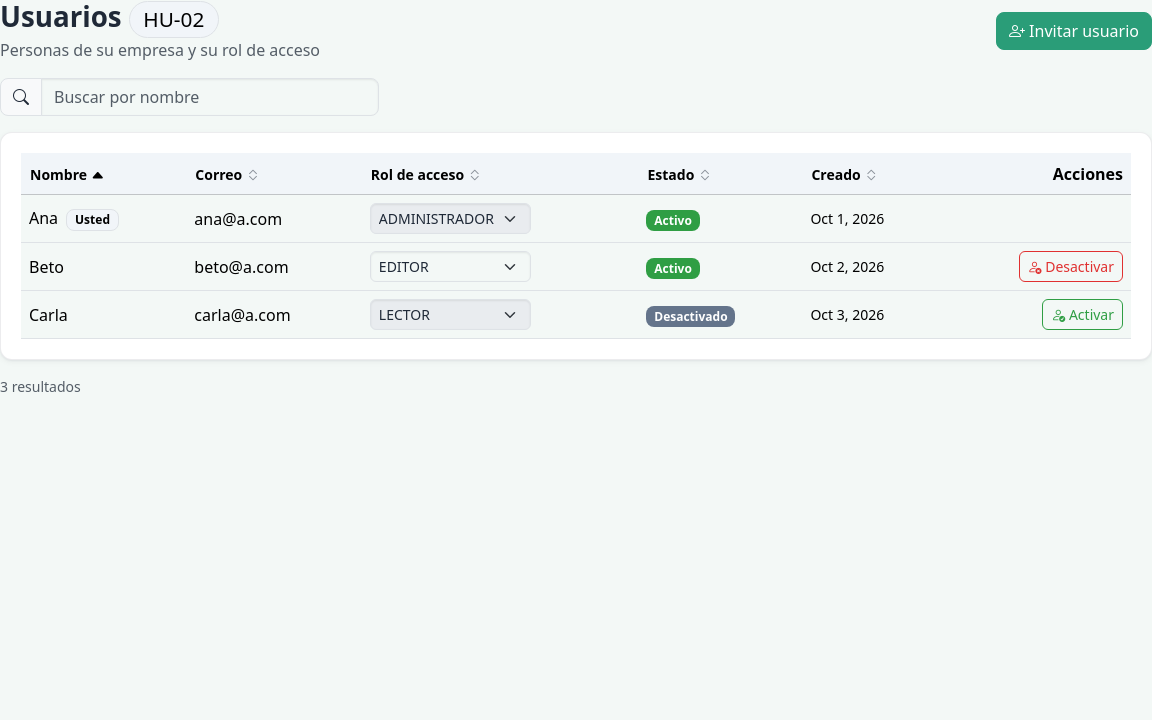
Scenario: UsuariosComponent (HU-02) › desactiva al confirmar y avisa que ya no puede entrar
What coordinates should you click on to do the following:
click the button with id "desactivarUsuarioBtn-2"
I would click on:
 (1071, 267)
Its box is [1018,251,1123,282].
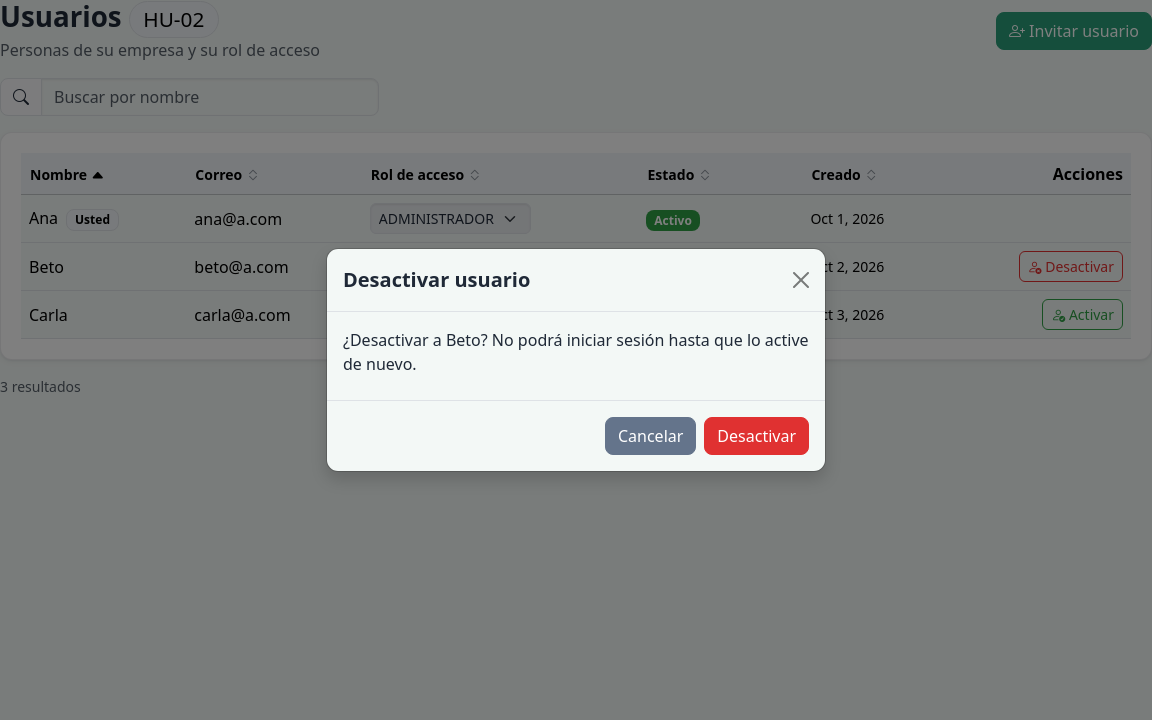
What coordinates should you click on to do the following:
click the button with id "confirmarEliminarBtn"
I would click on:
 (757, 436)
Its box is [704,417,809,455].
Wait 300 ms
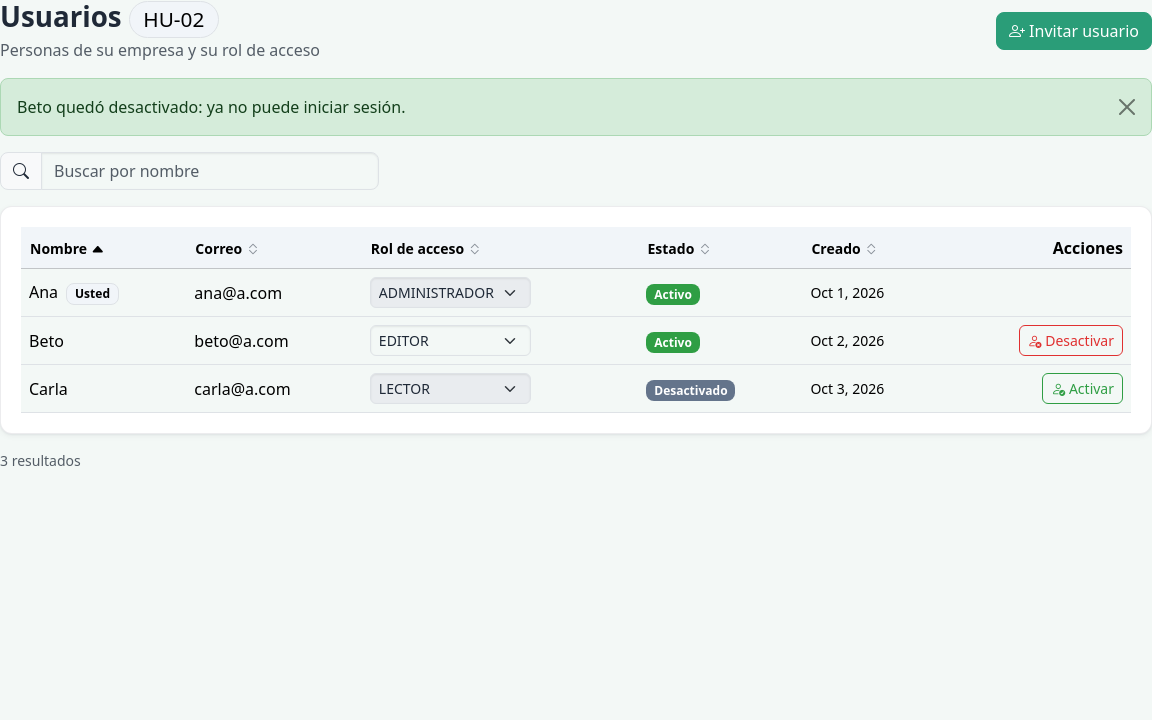
Expected: the element with id "avisoUsuarios" shows "ya no puede iniciar sesión", [17,96,406,118]
